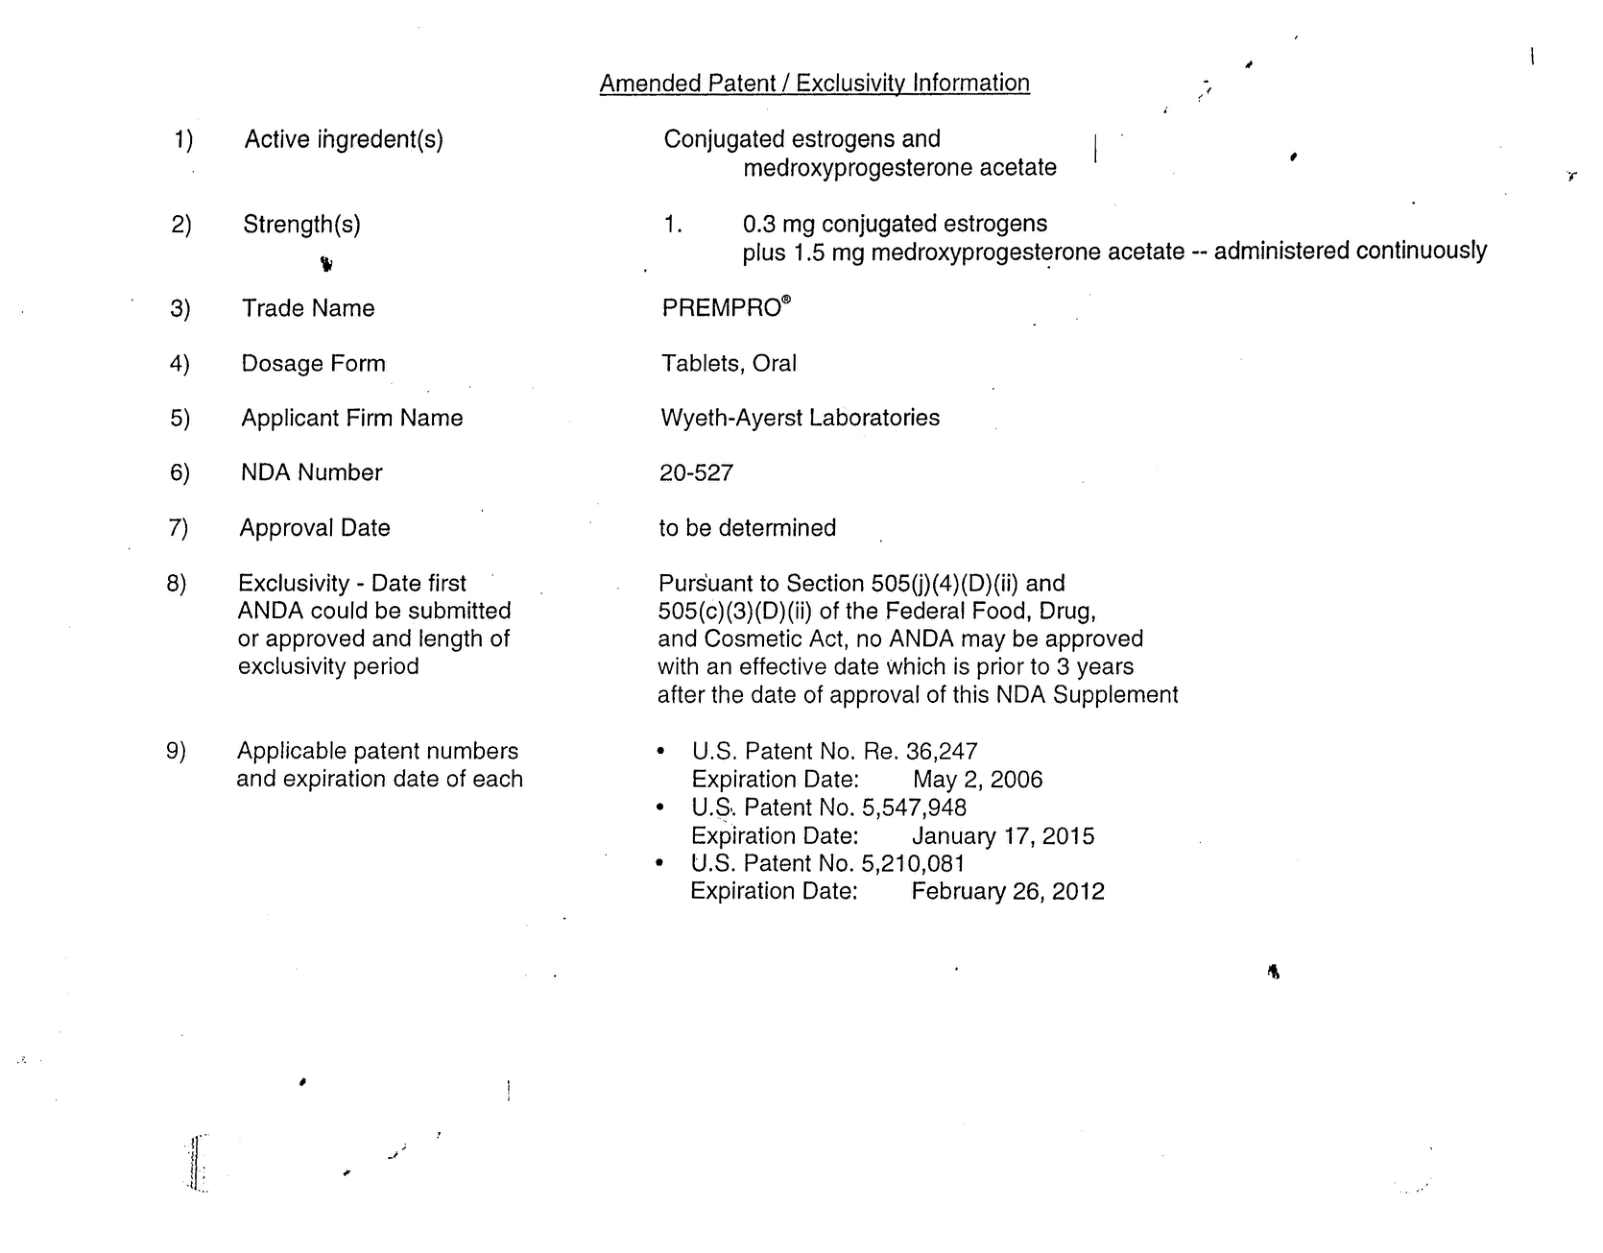nolines: (161, 124, 1492, 909)
